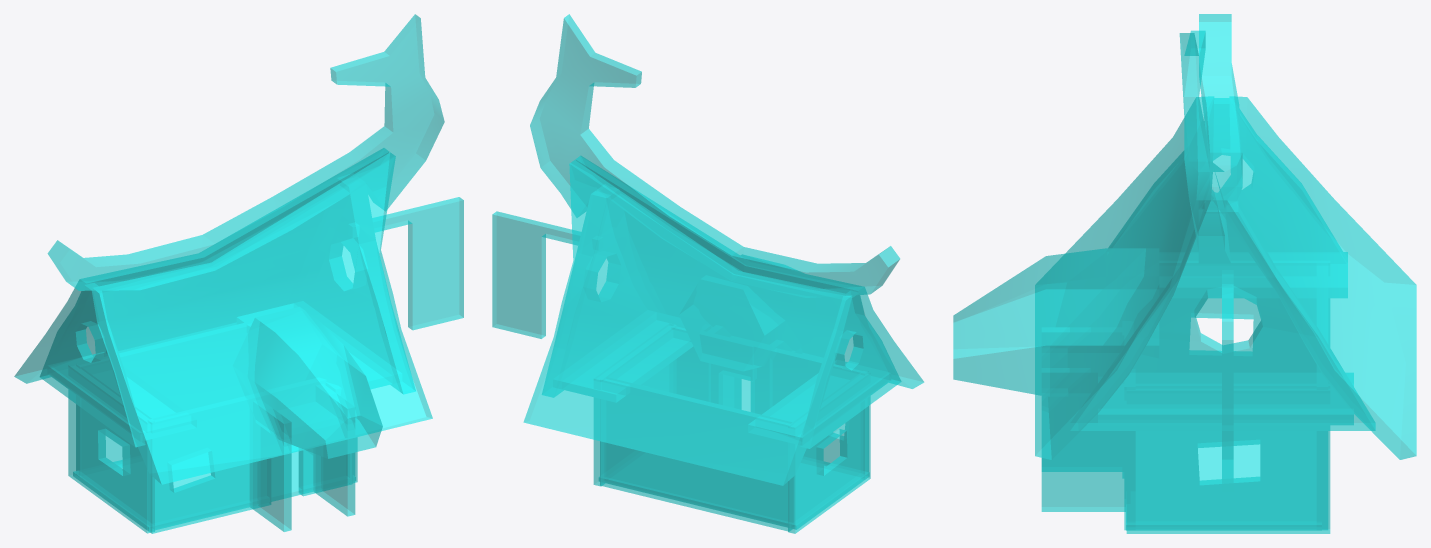
Rendered from SM_Bld_Shack_05_Collision.fbx.
The picture shows the model from 3 angles, left to right: view 1: azimuth 30°, elevation 25°; view 2: azimuth 150°, elevation 25°; view 3: azimuth 270°, elevation 25°; orthographic projection. The views are drawn at different scales.
Visible parts, largest first — view 1: SM_Bld_Shack_05_Collision; view 2: SM_Bld_Shack_05_Collision; view 3: SM_Bld_Shack_05_Collision.
Part boxes in pixels (bbox=[...]): SM_Bld_Shack_05_Collision: bbox=[14, 14, 463, 533]; SM_Bld_Shack_05_Collision: bbox=[492, 14, 923, 533]; SM_Bld_Shack_05_Collision: bbox=[953, 14, 1416, 533].
Size of the model in its own units: 1230 by 1220 by 926.
